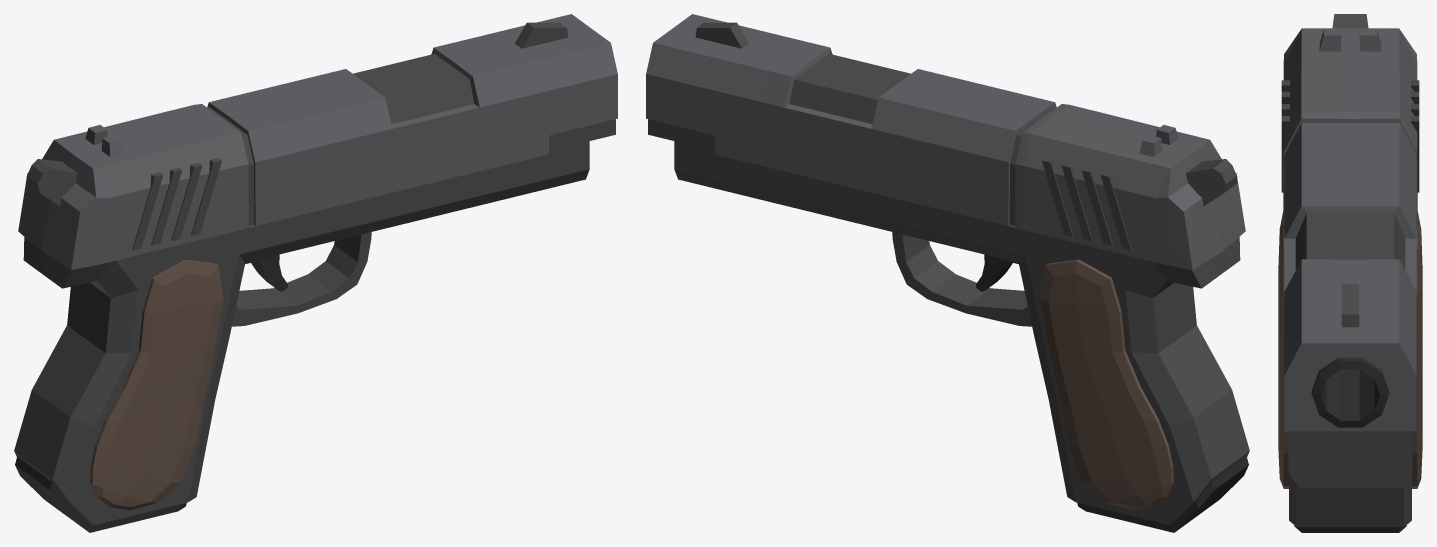
The model's file is pistol_2.glb.
3 views of the same model, side by side, from view 1: azimuth 30°, elevation 25°; view 2: azimuth 150°, elevation 25°; view 3: azimuth 270°, elevation 25° (orthographic). The views are drawn at different scales.
Visible parts, largest first — view 1: Pistol_2; view 2: Pistol_2; view 3: Pistol_2.
Boxes of the visible parts, left/top/right/bottom form: Pistol_2: left=14, top=14, right=617, bottom=532; Pistol_2: left=646, top=14, right=1249, bottom=532; Pistol_2: left=1278, top=14, right=1422, bottom=532.
Size of the model in its own units: 1.82 by 1.16 by 0.3232.
